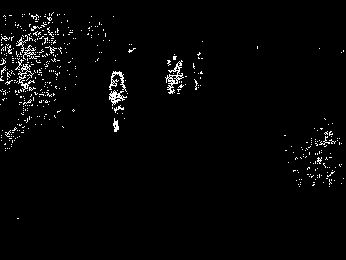person: (108, 69, 127, 133), (194, 52, 203, 94)
